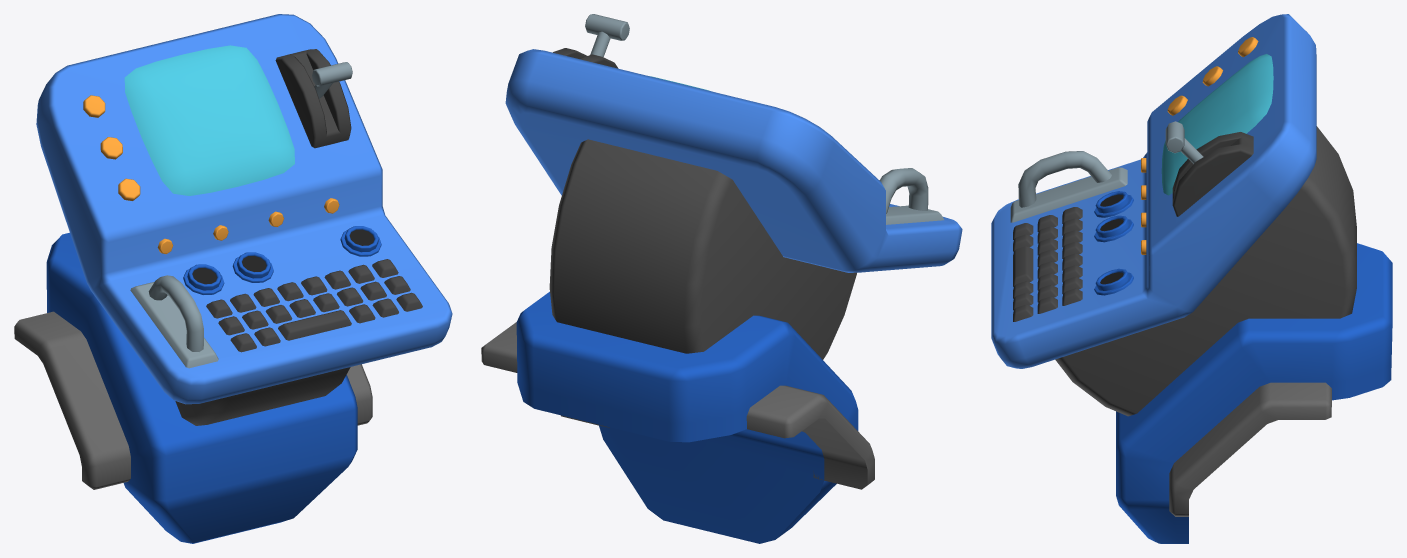
File: terminal_001.fbx
3 renders of one model, left to right at view 1: azimuth 30°, elevation 25°; view 2: azimuth 150°, elevation 25°; view 3: azimuth 270°, elevation 25°, orthographic. The views are drawn at different scales.
Parts seen in each view (by area): view 1: terminal_001; view 2: terminal_001; view 3: terminal_001.
Boxes of the visible parts, x1,y1,x2,y2 form: terminal_001: (14,14,452,543); terminal_001: (481,14,962,543); terminal_001: (991,14,1392,543).
Bounding box in the file's own units: 201 × 243 × 303.
